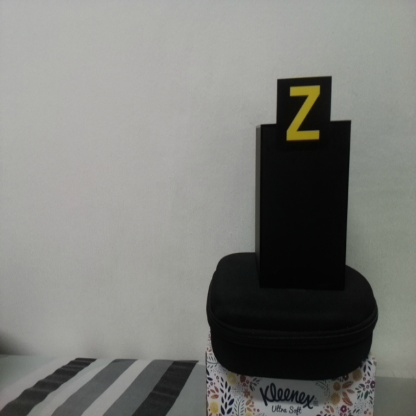id_15: (278, 80, 330, 150)
